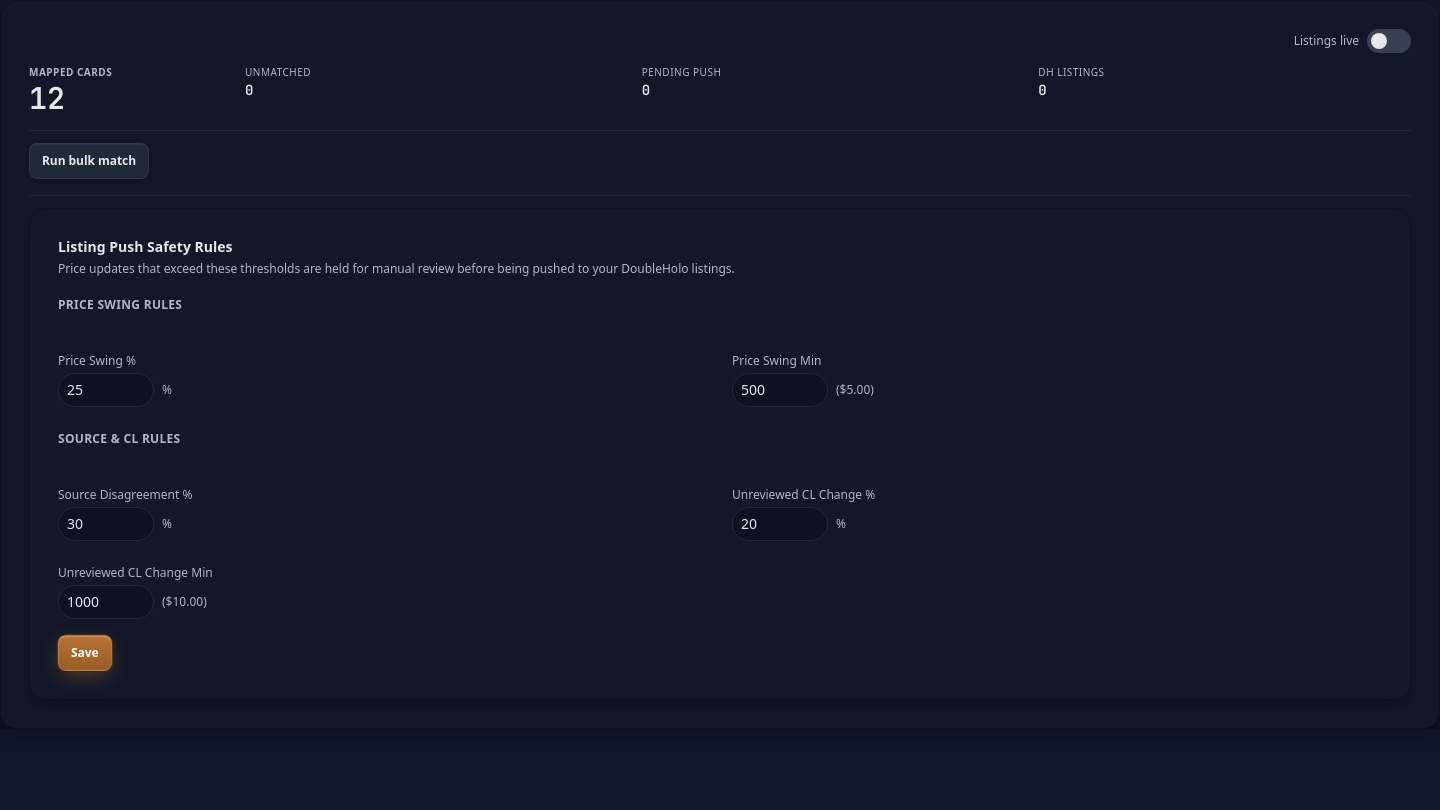
Test: DHTab pause toggle vs config card seam › preserves an unsaved threshold edit when the pause switch is flipped
The image size is (1440, 810).
Replace the text in the number field labelled "Price Swing %" with "40" at {"x": 106, "y": 390}, box [58,372,154,406]
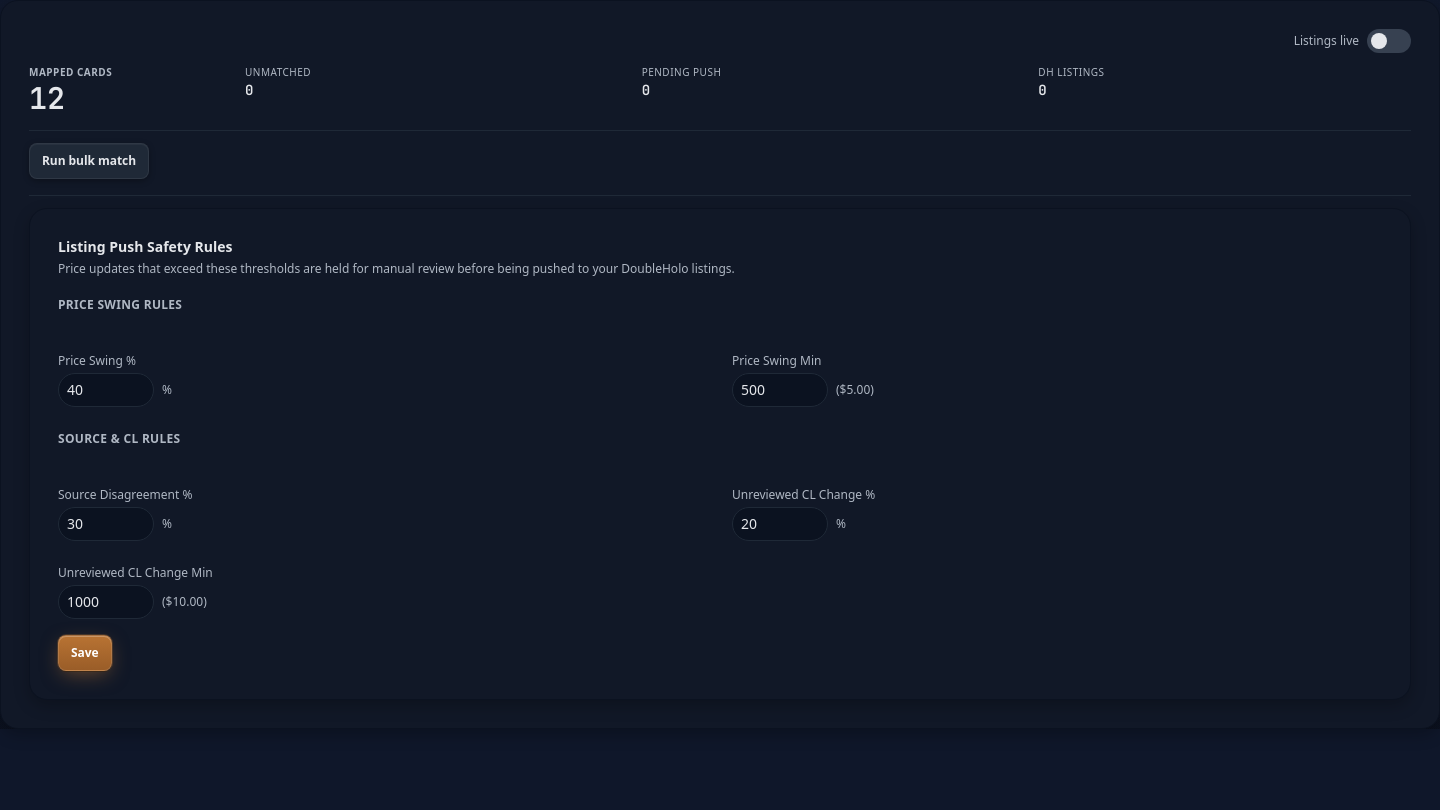
Click the switch named "Pause DH listings" at {"x": 1389, "y": 41}, box [1367,29,1411,53]
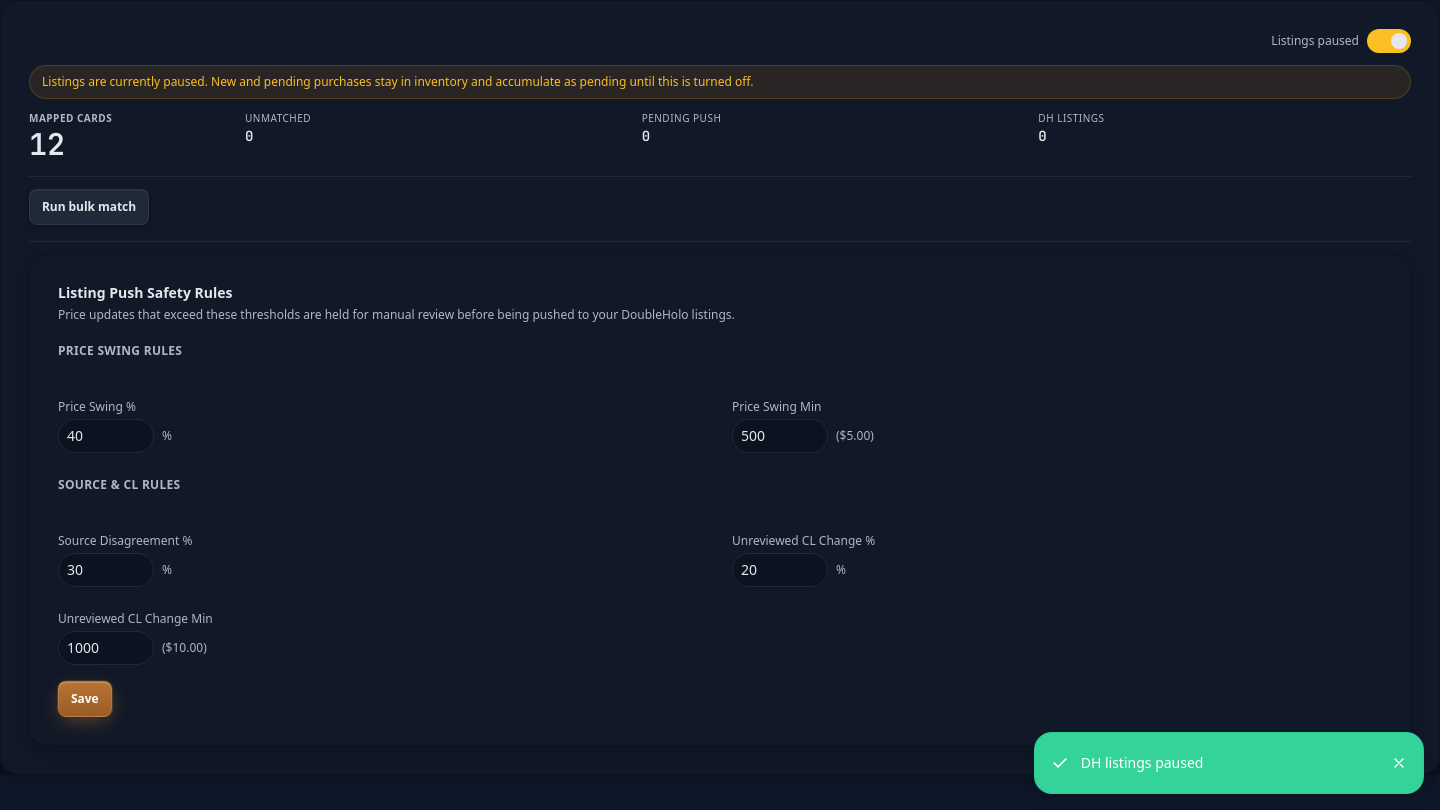
Expected: the text "Listings are currently paused" is shown, [42,73,754,90]
